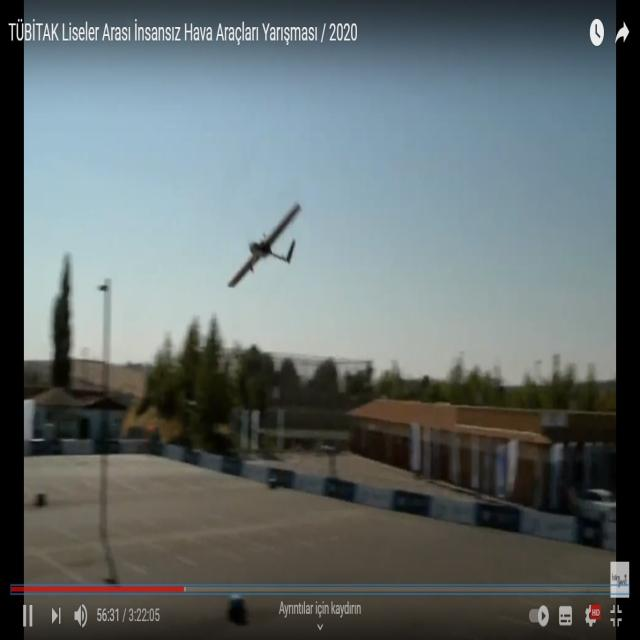iha: (255, 232, 260, 257)
